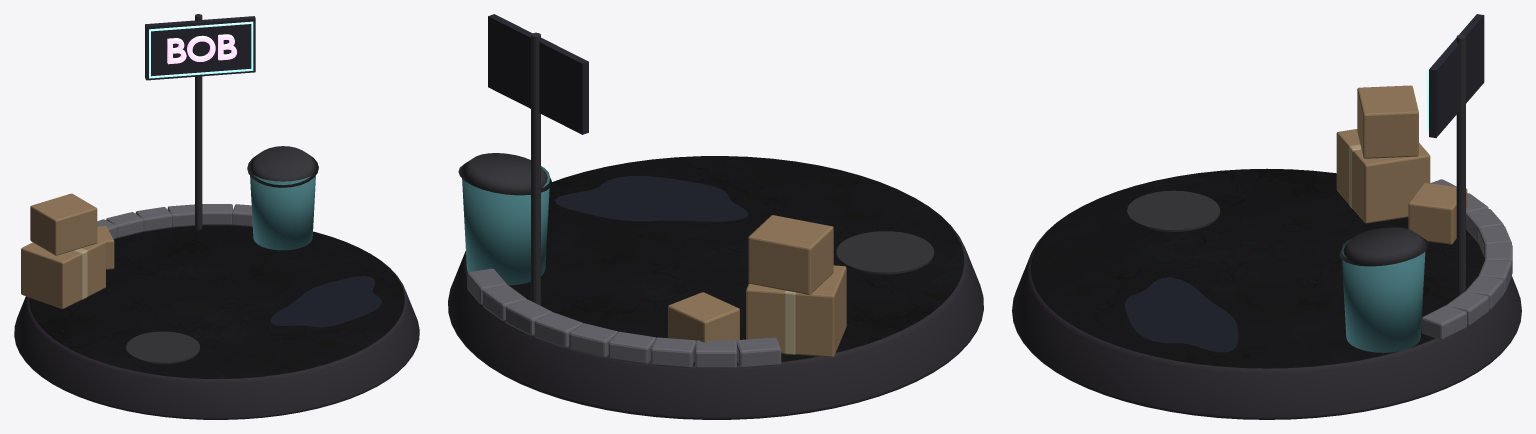
The model's file is stage.glb.
3 views of the same model, side by side, from view 1: azimuth 30°, elevation 25°; view 2: azimuth 150°, elevation 25°; view 3: azimuth 270°, elevation 25° (orthographic). The views are drawn at different scales.
Visible parts, largest first — view 1: Stage_Boden, Stage_Schild, Stage_Karton_1, Stage_Tonne, Stage_Pfuetze, Stage_Karton_2, Stage_Bordstein, Stage_Tonne_Deckel, Stage_Gullideckel, Stage_Schild_Stange, Stage_Neon_BOB, Stage_Neon_Rahmen (+1 smaller); view 2: Stage_Boden, Stage_Bordstein, Stage_Schild, Stage_Pfuetze, Stage_Tonne, Stage_Karton_1, Stage_Karton_2, Stage_Gullideckel, Stage_Karton_3, Stage_Tonne_Deckel, Stage_Schild_Stange, Stage_Klebeband_1; view 3: Stage_Boden, Stage_Tonne, Stage_Pfuetze, Stage_Karton_1, Stage_Bordstein, Stage_Karton_2, Stage_Schild, Stage_Gullideckel, Stage_Tonne_Deckel, Stage_Karton_3, Stage_Schild_Stange.
Boxes of the visible parts, bbox=[...] form: Stage_Boden: bbox=[14, 225, 419, 419]; Stage_Schild: bbox=[145, 16, 255, 80]; Stage_Karton_1: bbox=[21, 238, 105, 308]; Stage_Tonne: bbox=[250, 174, 315, 250]; Stage_Pfuetze: bbox=[270, 276, 381, 327]; Stage_Karton_2: bbox=[30, 193, 97, 255]; Stage_Bordstein: bbox=[97, 204, 252, 239]; Stage_Tonne_Deckel: bbox=[247, 146, 318, 187]; Stage_Gullideckel: bbox=[126, 331, 199, 364]; Stage_Schild_Stange: bbox=[195, 14, 202, 229]; Stage_Neon_BOB: bbox=[167, 34, 237, 64]; Stage_Neon_Rahmen: bbox=[149, 21, 253, 78]; Stage_Boden: bbox=[448, 156, 983, 419]; Stage_Bordstein: bbox=[467, 268, 781, 368]; Stage_Schild: bbox=[488, 14, 588, 134]; Stage_Pfuetze: bbox=[555, 176, 748, 221]; Stage_Tonne: bbox=[462, 166, 550, 285]; Stage_Karton_1: bbox=[746, 265, 846, 357]; Stage_Karton_2: bbox=[748, 215, 833, 294]; Stage_Gullideckel: bbox=[836, 231, 934, 274]; Stage_Karton_3: bbox=[668, 292, 739, 342]; Stage_Tonne_Deckel: bbox=[458, 153, 552, 195]; Stage_Schild_Stange: bbox=[531, 32, 540, 305]; Stage_Klebeband_1: bbox=[784, 290, 795, 354]; Stage_Boden: bbox=[1012, 168, 1521, 419]; Stage_Tonne: bbox=[1341, 238, 1425, 352]; Stage_Pfuetze: bbox=[1125, 277, 1238, 352]; Stage_Karton_1: bbox=[1336, 129, 1430, 223]; Stage_Bordstein: bbox=[1421, 179, 1512, 339]; Stage_Karton_2: bbox=[1357, 85, 1418, 158]; Stage_Schild: bbox=[1429, 14, 1484, 137]; Stage_Gullideckel: bbox=[1127, 190, 1220, 231]; Stage_Tonne_Deckel: bbox=[1339, 227, 1428, 266]; Stage_Karton_3: bbox=[1408, 183, 1467, 244]; Stage_Schild_Stange: bbox=[1456, 34, 1465, 296].
Size of the model in its own units: 3.28 by 2.22 by 3.28.
Materials: 11 (1 with a texture image).
